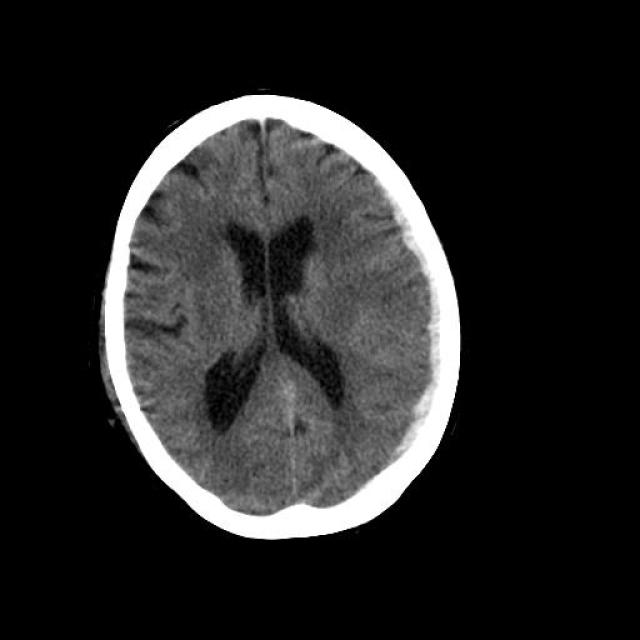Subdural: (367, 174, 458, 508)
